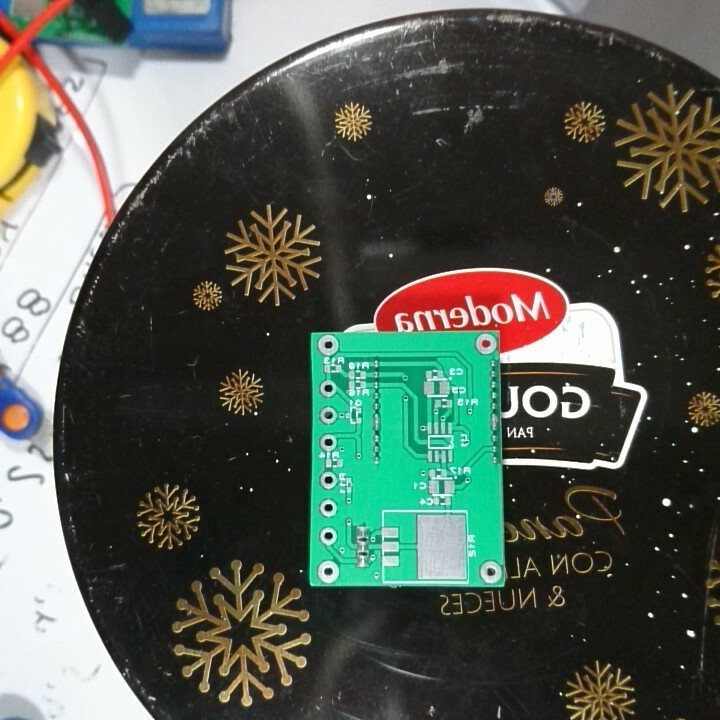F: (314, 558, 341, 585), (479, 556, 504, 582), (474, 332, 499, 358), (316, 334, 341, 358), (316, 402, 339, 427), (317, 525, 339, 547), (318, 469, 339, 492), (318, 378, 339, 399), (318, 431, 339, 452), (317, 498, 338, 519)
P: (371, 411, 384, 433), (490, 410, 501, 432)
